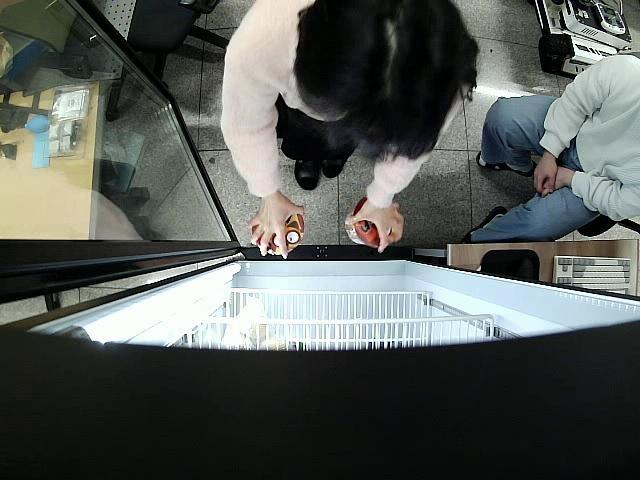05_nuguri_L: (344, 196, 400, 246), (254, 210, 305, 253)
